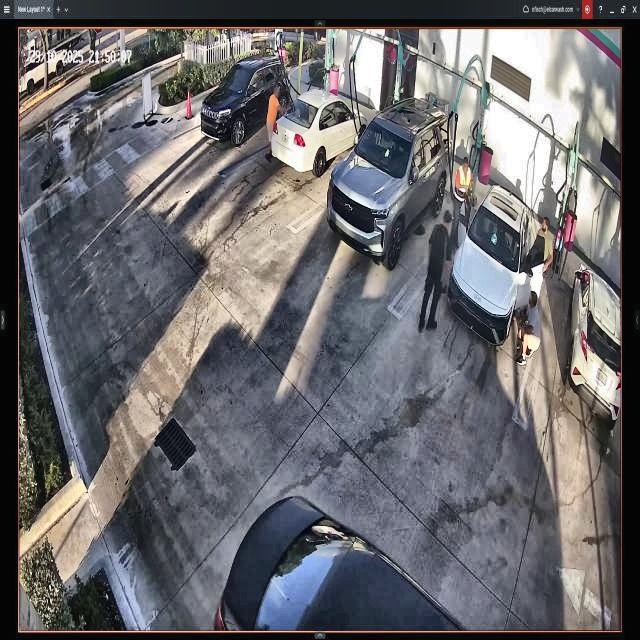Car: (328, 100, 452, 263), (448, 185, 532, 347), (274, 86, 364, 171)
